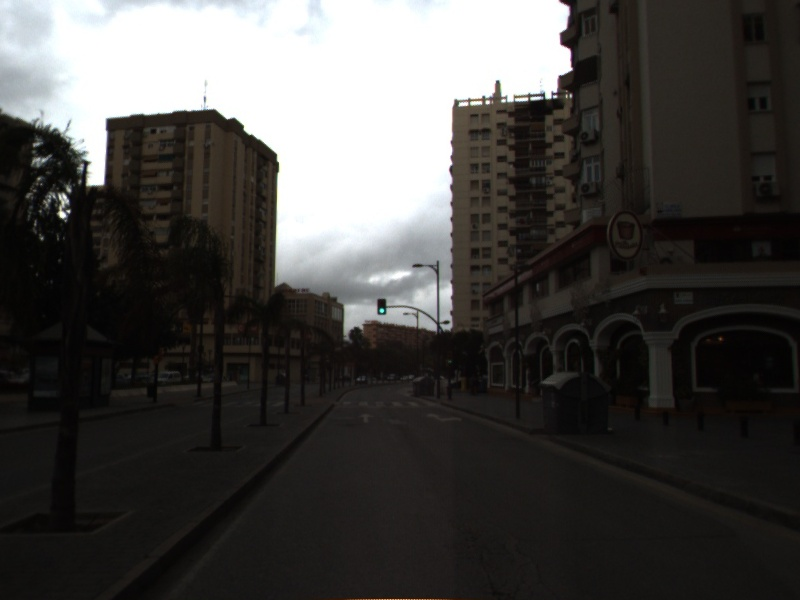STRAIGHT: (356, 410, 377, 425)
STRAIGHT_RIGHT: (424, 410, 465, 425)
